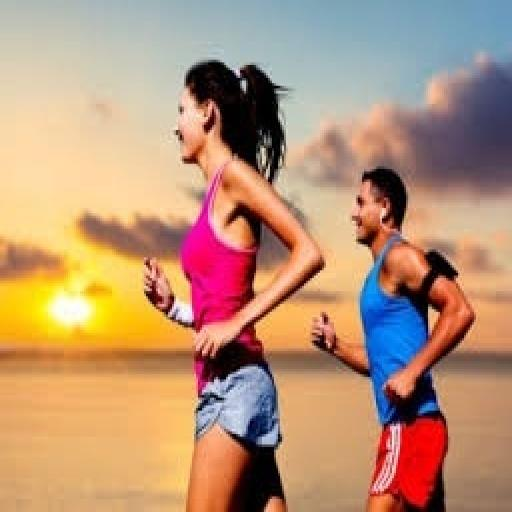running: (140, 58, 328, 510), (308, 164, 480, 509)
